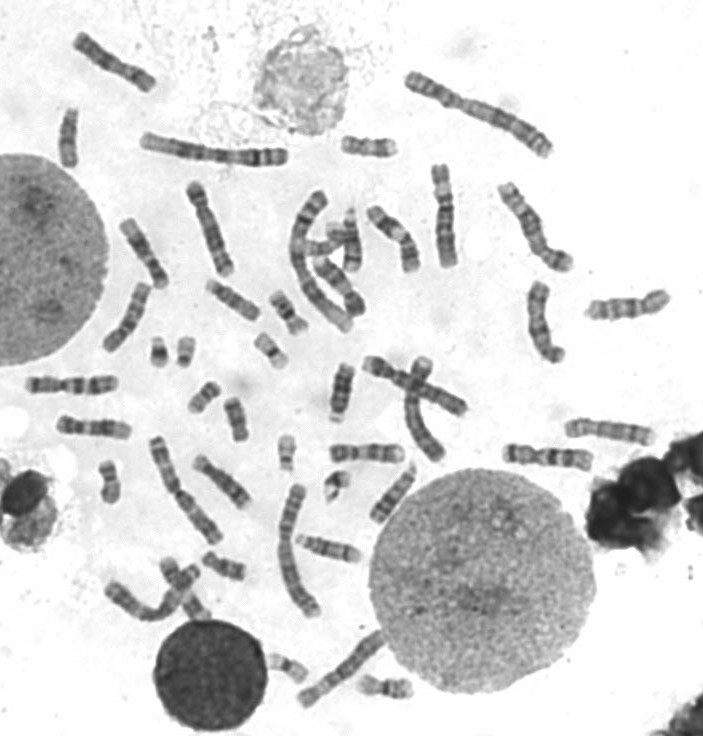chromosomes: (399, 65, 565, 167), (283, 185, 359, 339), (492, 175, 585, 281), (143, 434, 223, 553), (294, 625, 393, 715), (356, 349, 480, 420), (271, 477, 327, 623), (98, 560, 207, 629), (64, 22, 161, 99), (131, 126, 294, 171), (398, 351, 456, 476), (180, 171, 238, 282), (421, 155, 469, 275), (364, 197, 430, 280), (156, 552, 223, 633), (520, 274, 572, 372), (495, 437, 602, 484), (190, 448, 261, 516), (112, 212, 172, 292), (98, 280, 156, 361), (582, 281, 674, 330), (308, 252, 371, 322), (367, 456, 423, 527), (16, 368, 127, 401), (50, 407, 140, 447), (199, 275, 265, 329), (289, 531, 371, 572), (49, 101, 92, 176), (564, 415, 660, 448), (332, 124, 409, 165), (321, 353, 363, 428), (326, 438, 410, 473), (265, 283, 313, 342), (354, 668, 423, 706), (297, 216, 350, 262), (255, 647, 313, 688), (220, 392, 260, 450), (200, 546, 254, 587), (249, 325, 291, 377), (338, 203, 367, 278), (93, 455, 129, 510), (184, 376, 228, 420), (270, 427, 305, 479), (320, 463, 360, 506), (173, 332, 204, 371), (144, 332, 172, 373)
